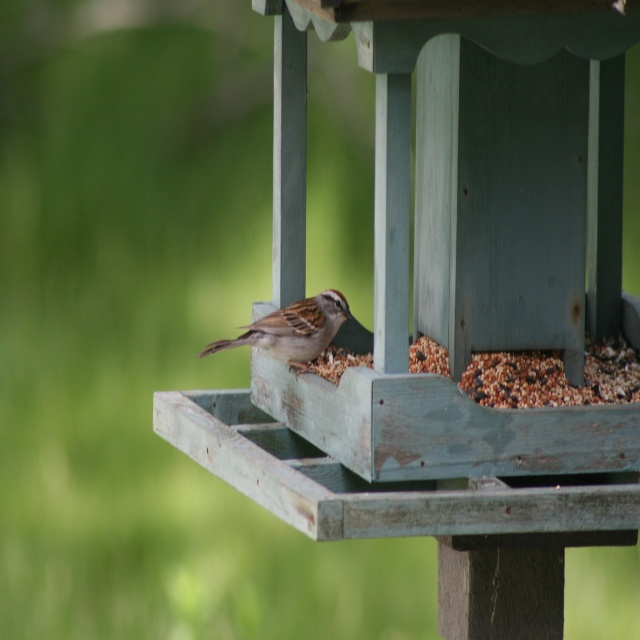Sparrow: (198, 290, 354, 379)
